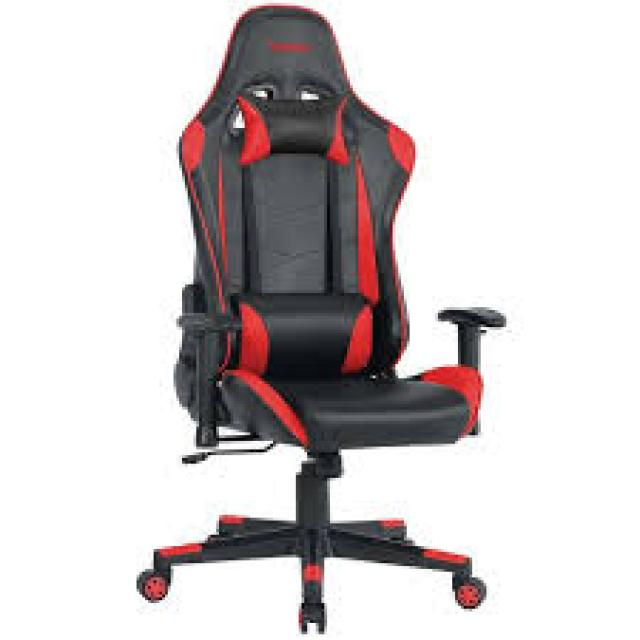chair: (126, 1, 570, 640)
